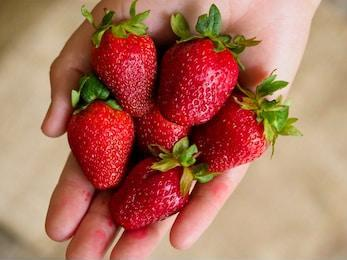Fresa: (157, 31, 240, 128), (193, 82, 276, 177), (86, 20, 165, 118), (107, 151, 194, 233), (67, 96, 138, 193)
